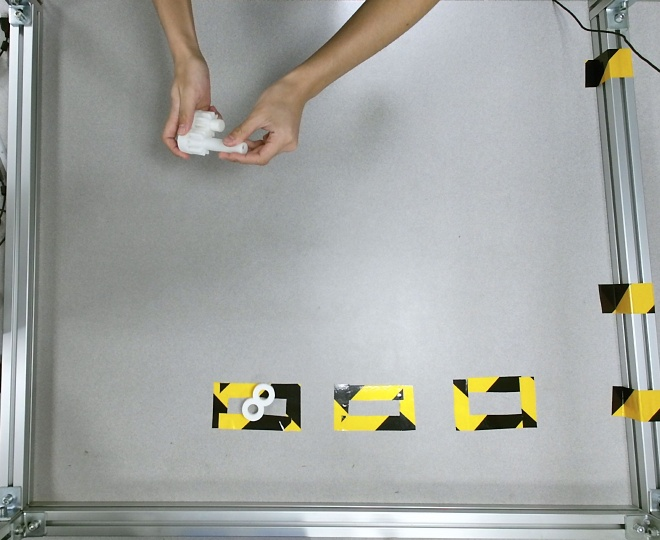stage_3: (176, 110, 248, 155)
